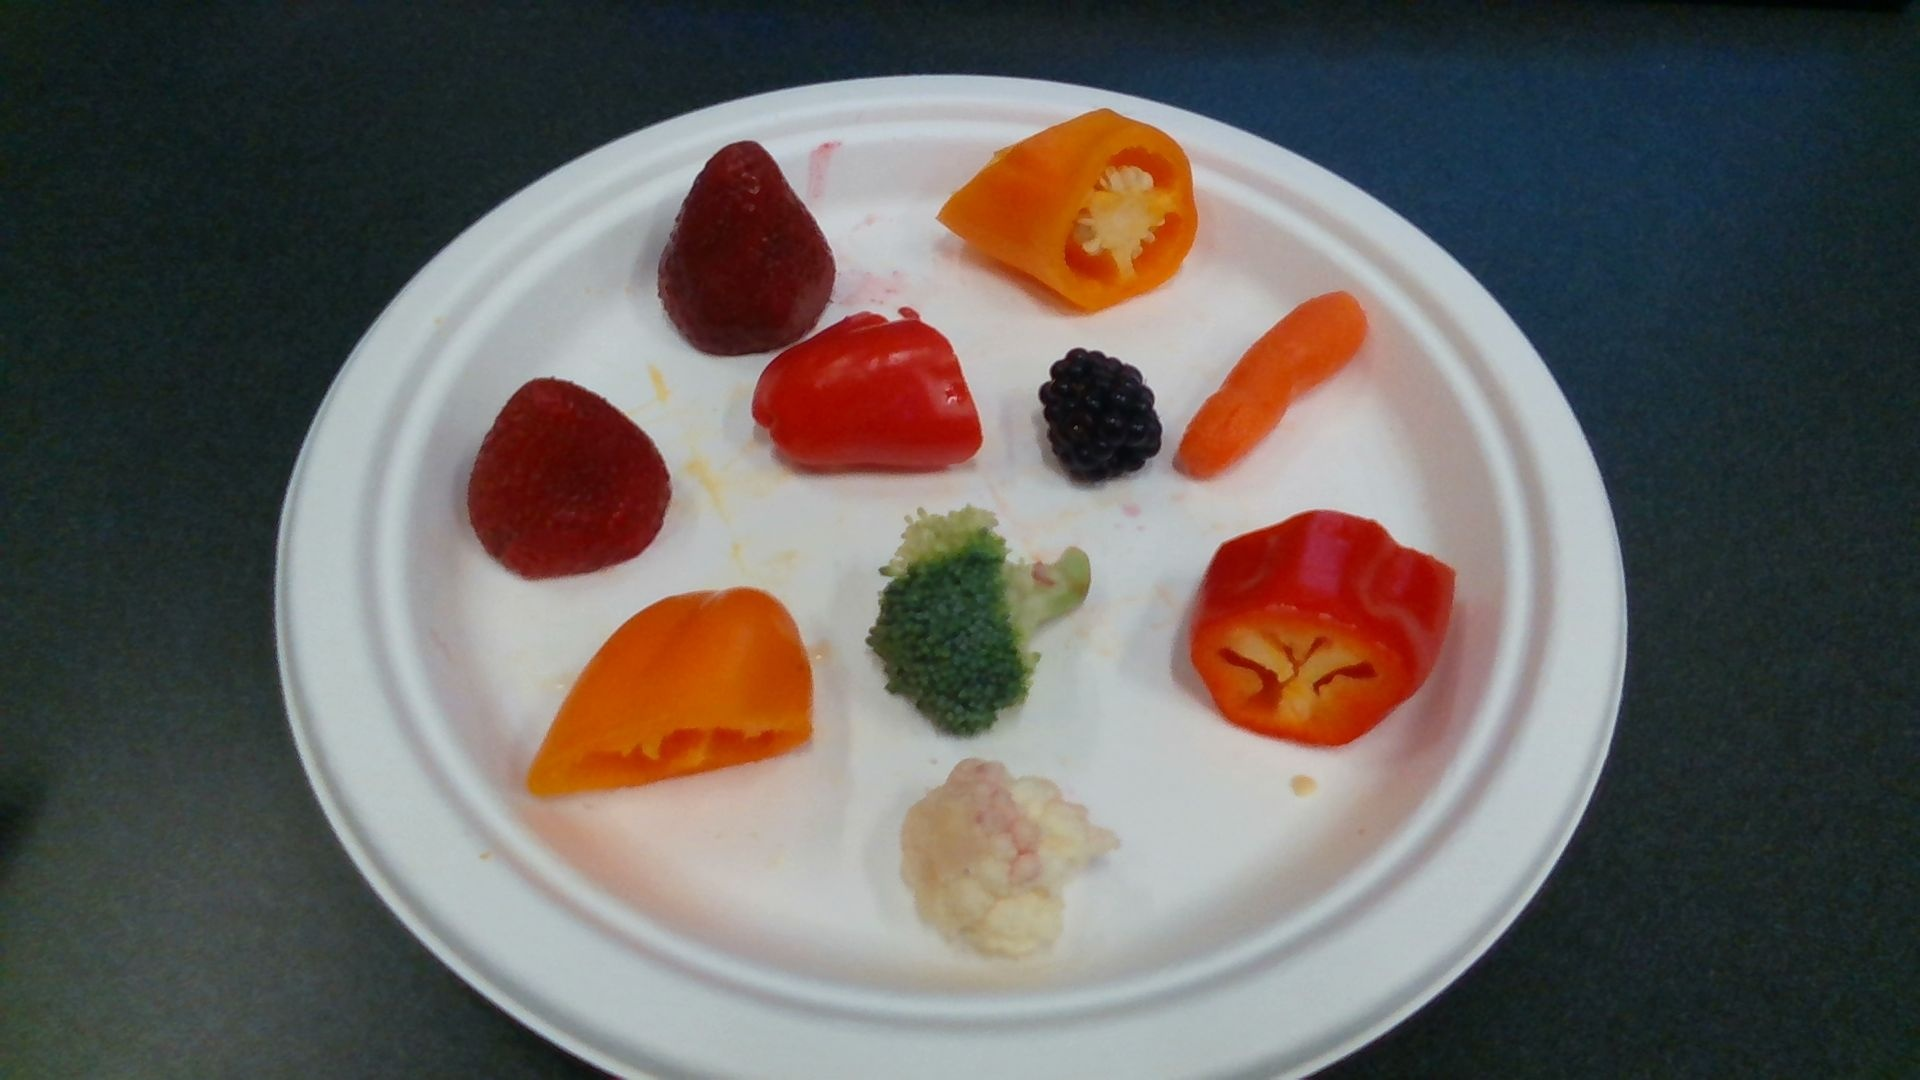bell_pepper: (1193, 510, 1455, 745), (531, 593, 815, 800), (939, 109, 1197, 311), (757, 313, 982, 468)
blackberry: (1044, 353, 1162, 481)
broccoli: (874, 512, 1091, 733)
carrot: (1178, 298, 1369, 473)
cauliflower: (905, 761, 1120, 953)
strawberry: (472, 376, 670, 578), (665, 145, 835, 351)
